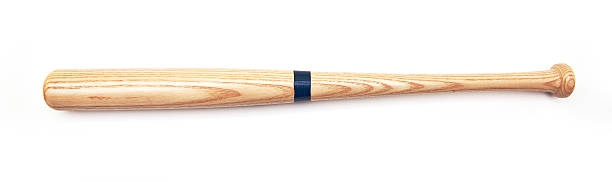bita: (47, 63, 585, 117)
